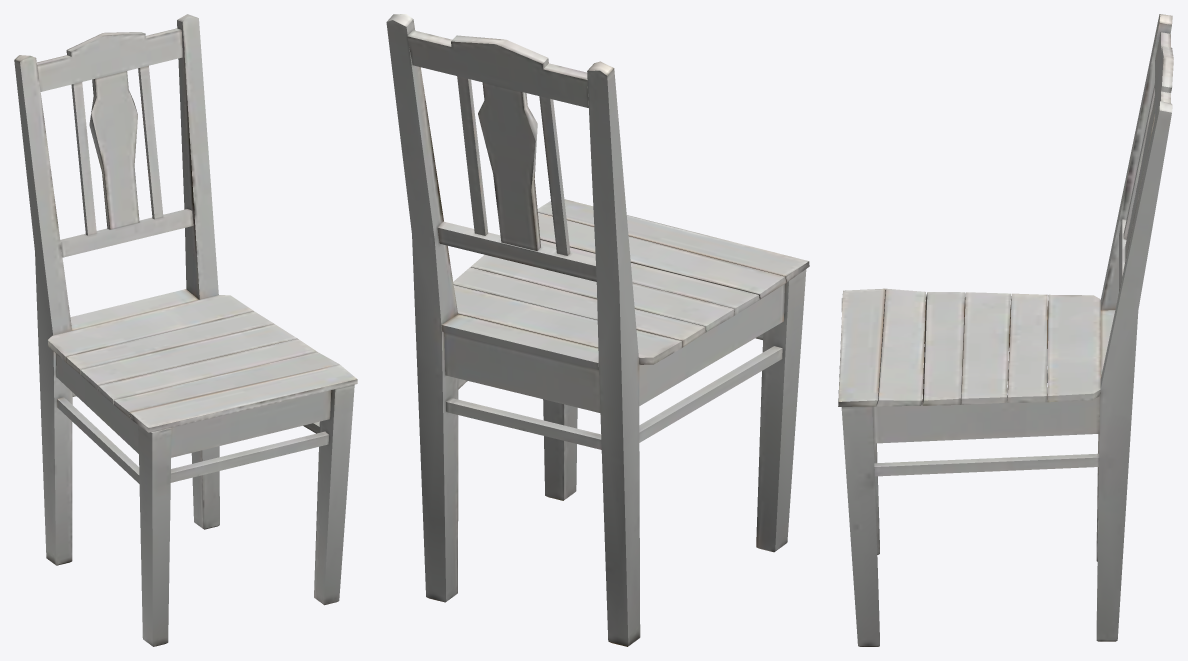
File: painted_wooden_chair_01.glb
3 views of the same model, side by side, from view 1: azimuth 30°, elevation 25°; view 2: azimuth 150°, elevation 25°; view 3: azimuth 270°, elevation 25° (orthographic). The views are drawn at different scales.
Visible parts, largest first — view 1: painted_wooden_chair_01; view 2: painted_wooden_chair_01; view 3: painted_wooden_chair_01.
Part boxes in pixels (x1,y1,x2,y2): painted_wooden_chair_01: (14,14,357,646); painted_wooden_chair_01: (386,14,809,646); painted_wooden_chair_01: (838,14,1173,646).
Bounding box in the file's own units: 0.4238 × 0.9558 × 0.5385.
1 material, 1 textured.
